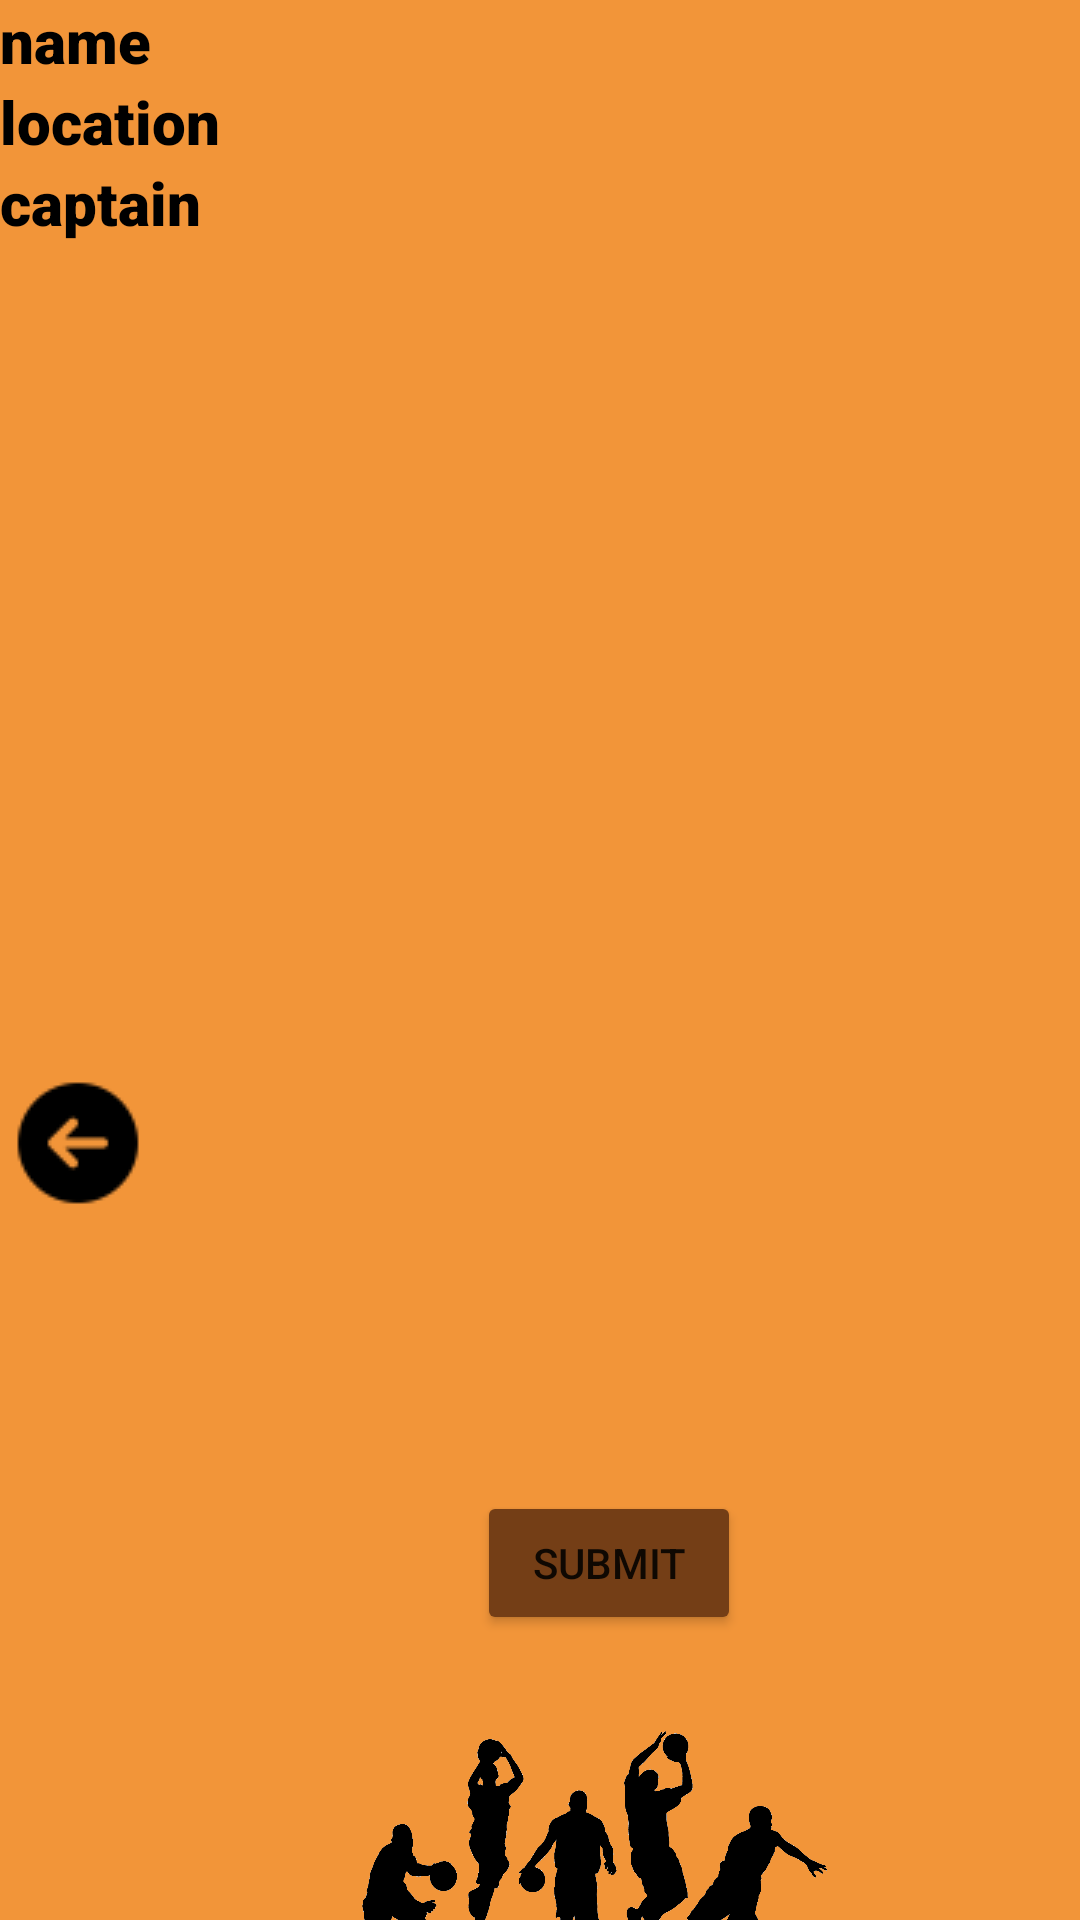

Icons on this 1080×1920 Android screen, each with the point to tap as (x=x, y=y):
goback: (x=78, y=1143)
